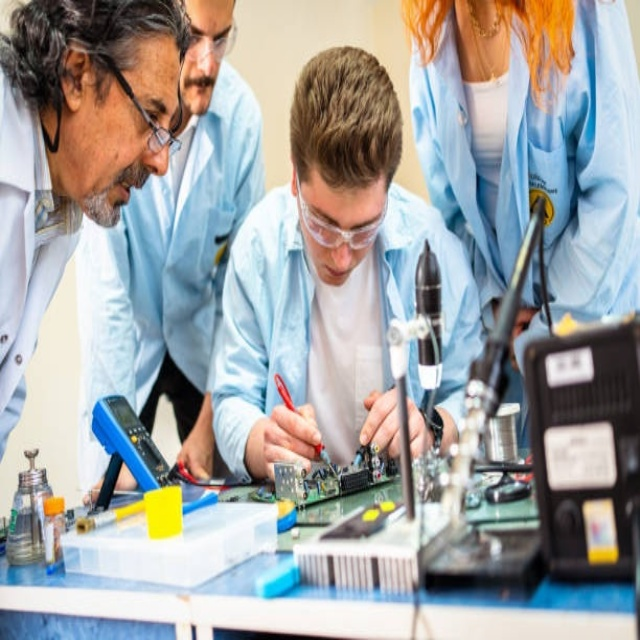Gafas: (99, 50, 185, 157), (296, 165, 389, 250), (183, 16, 237, 64)
Sin_guantes: (357, 384, 432, 463), (259, 398, 324, 485)
Sin_mascara: (88, 166, 156, 226), (185, 69, 220, 116), (317, 253, 358, 290)
